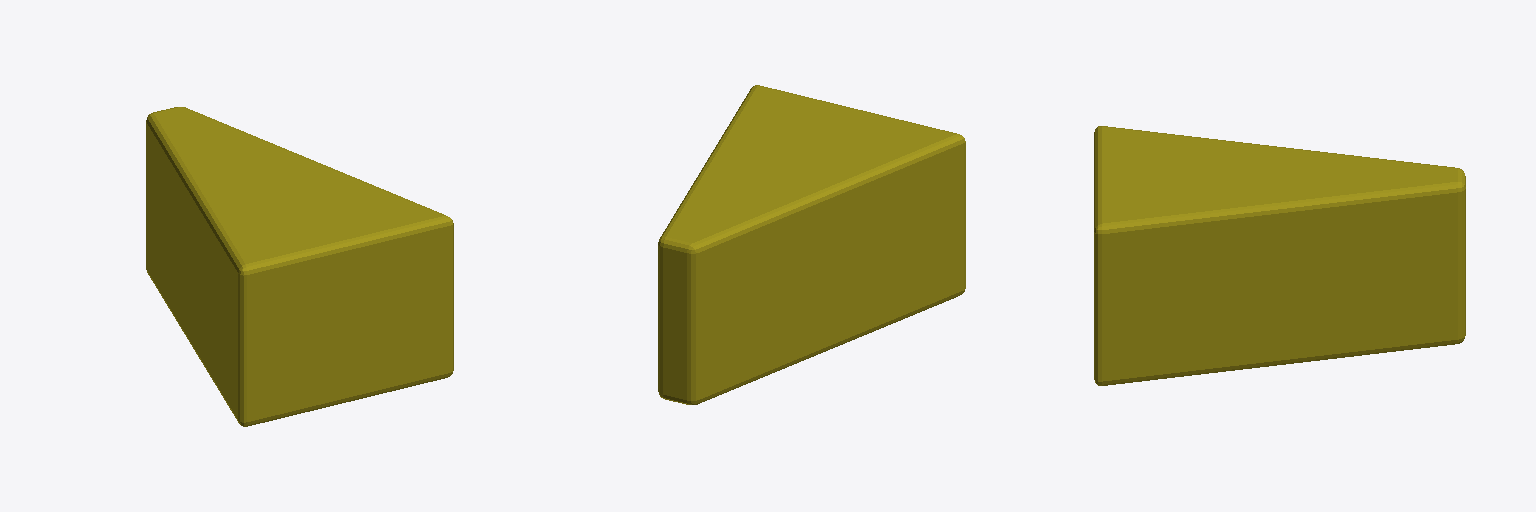
File: SlicedCheese01.obj
3 views of the same model, side by side, from view 1: azimuth 30°, elevation 25°; view 2: azimuth 150°, elevation 25°; view 3: azimuth 270°, elevation 25° (orthographic).
Parts seen in each view (by area): view 1: SlicedCheese01_Cube.001; view 2: SlicedCheese01_Cube.001; view 3: SlicedCheese01_Cube.001.
Part boxes in pixels (left/top/right/bottom): SlicedCheese01_Cube.001: left=146, top=107, right=453, bottom=426; SlicedCheese01_Cube.001: left=658, top=85, right=965, bottom=404; SlicedCheese01_Cube.001: left=1094, top=126, right=1465, bottom=385.
Size of the model in its own units: 2.76 by 2 by 4.16.